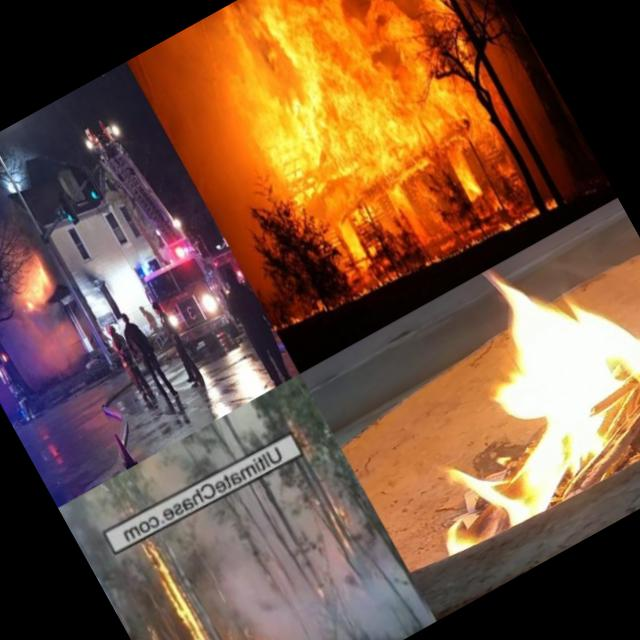fire: (182, 0, 555, 306), (360, 206, 640, 550), (138, 538, 245, 640), (6, 248, 63, 312), (232, 625, 308, 640)
smoke: (163, 498, 295, 640), (260, 528, 423, 640), (0, 299, 86, 391)
